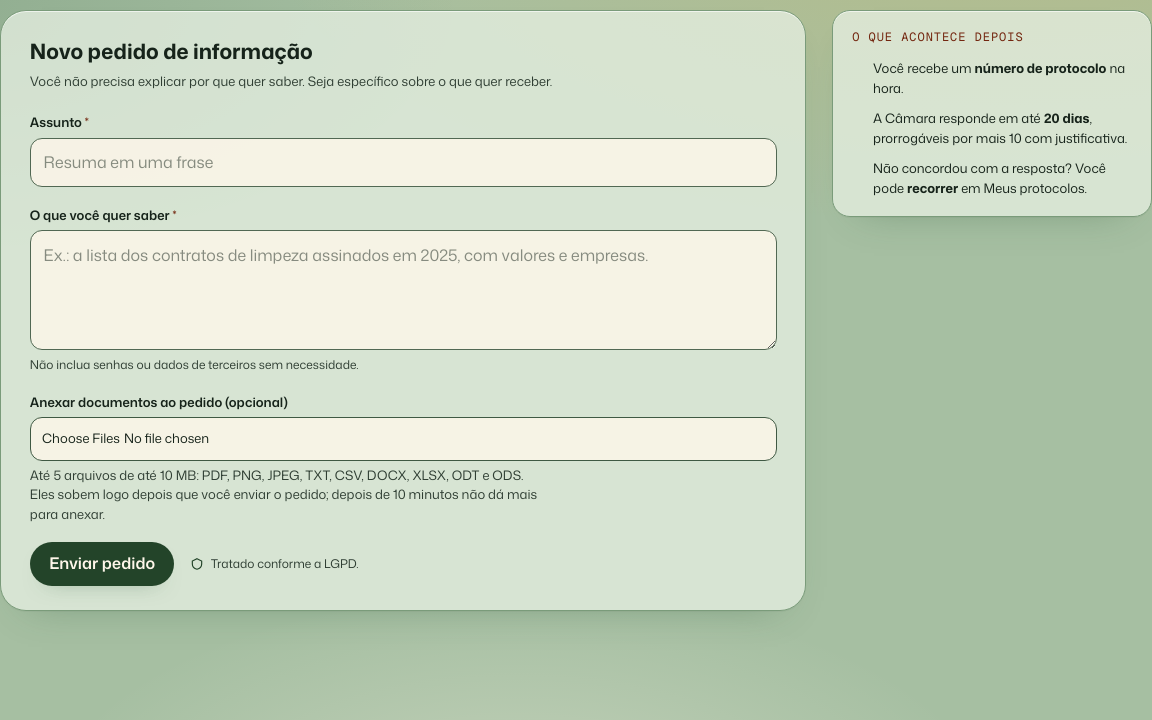
Test: formulários do cidadão › Casa com o sistema restrito (ADR-0018): o recibo diz, e o pedido vale
The image size is (1152, 720).
In the field labelled "Assunto *": x=403, y=163 [30, 138, 777, 187], type "Contratos de 2025"
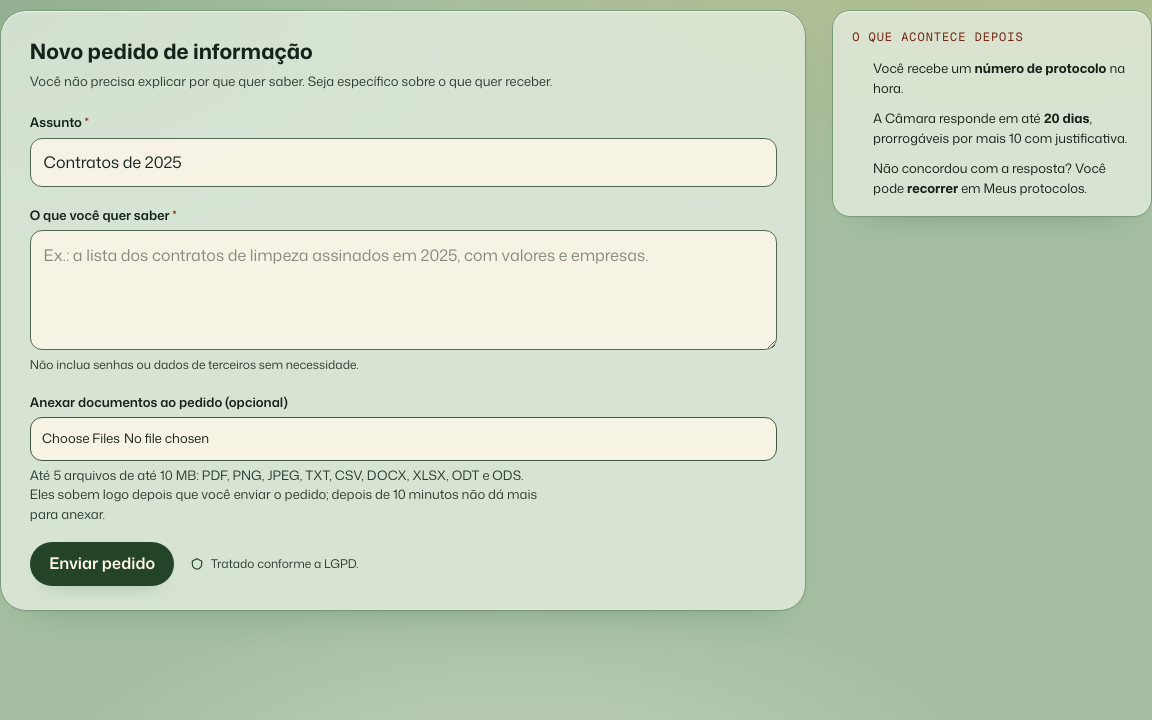
Replace the text in the text box labelled "O que você quer saber *" with "A lista dos contratos.": x=403, y=290 [30, 230, 777, 350]
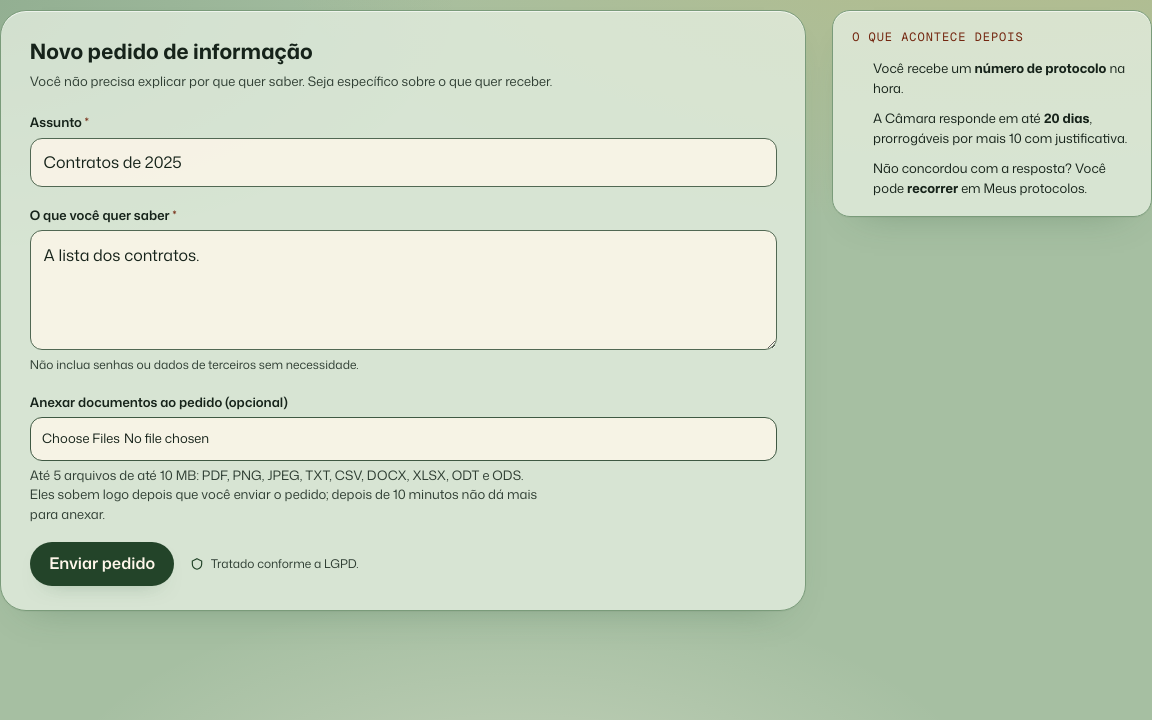
Click the button "Enviar pedido": x=102, y=564 [30, 542, 174, 586]
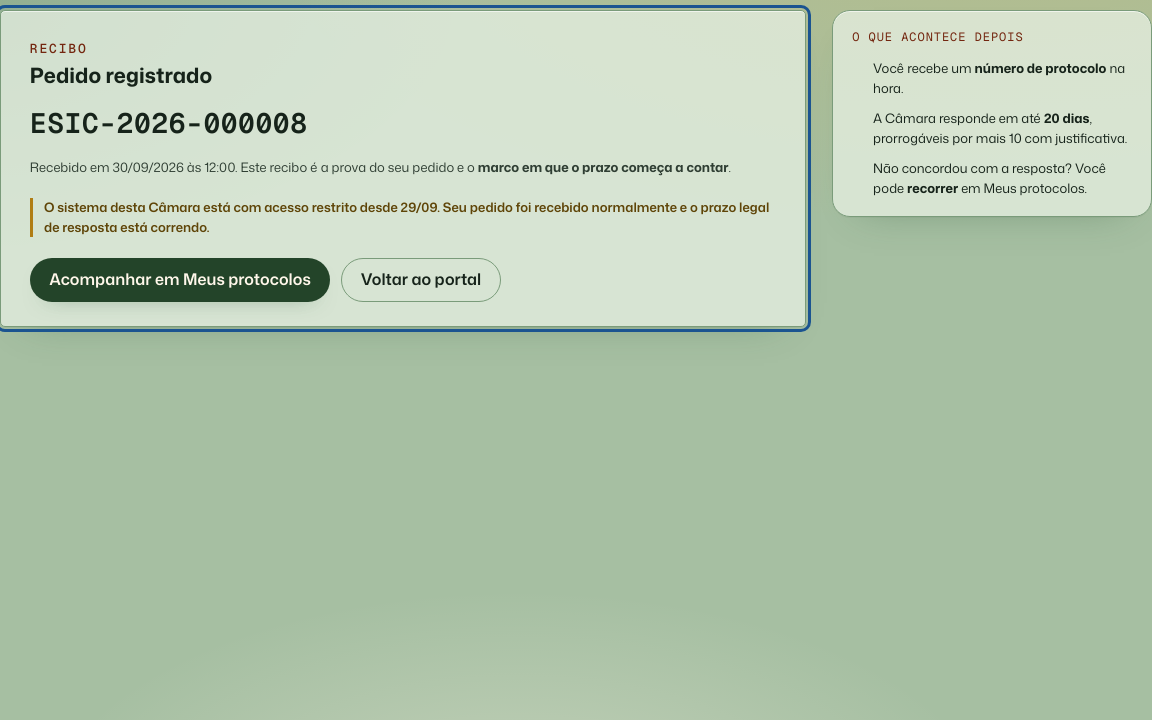
Now the text "ESIC-2026-000008" is shown, box [30, 104, 308, 140]
Now the text "acesso restrito desde 29/09. Seu pedido foi recebido normalmente e o prazo legal" is shown, box [44, 198, 769, 236]
